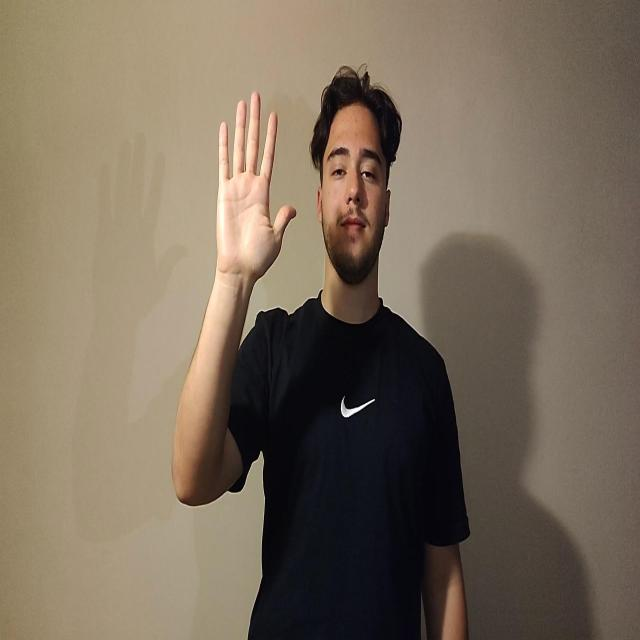hello: (215, 90, 297, 285)
